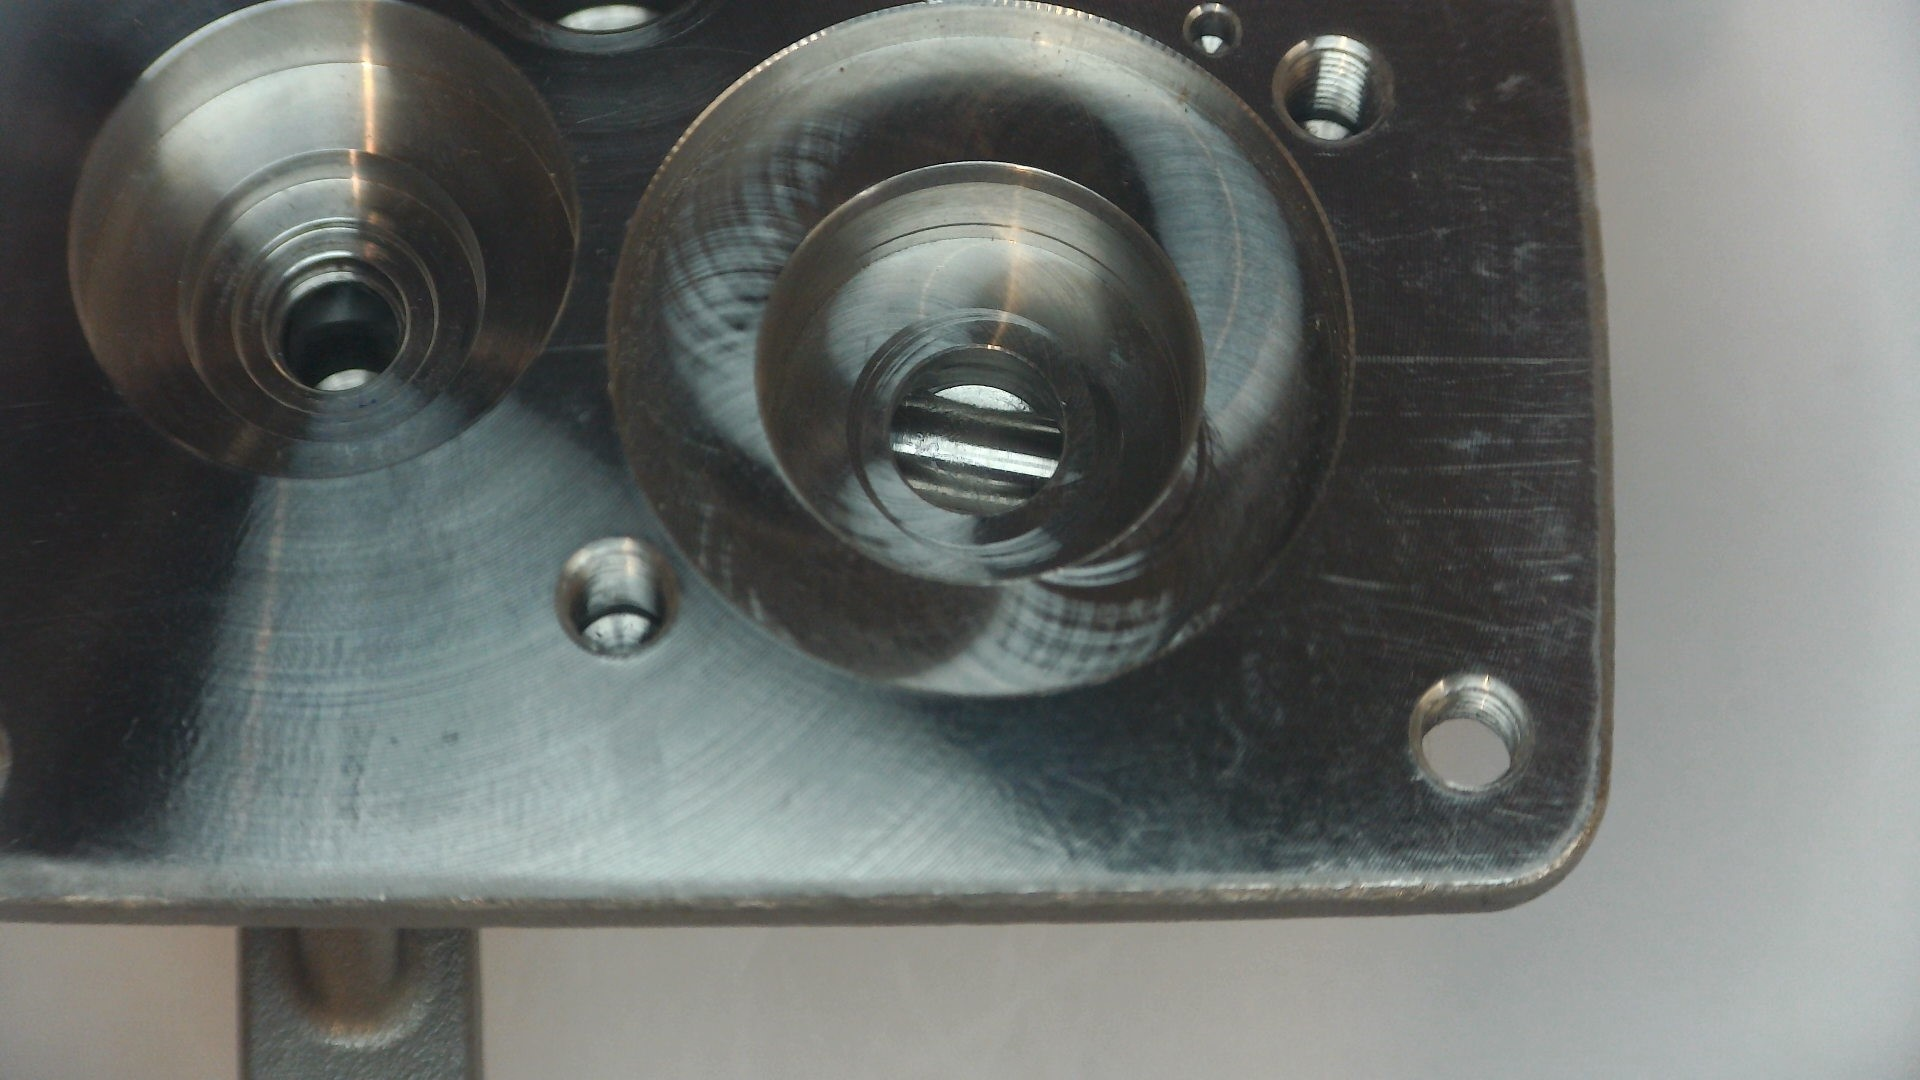thread_presence: (564, 549, 669, 640), (1414, 683, 1524, 766), (1280, 44, 1383, 129)
